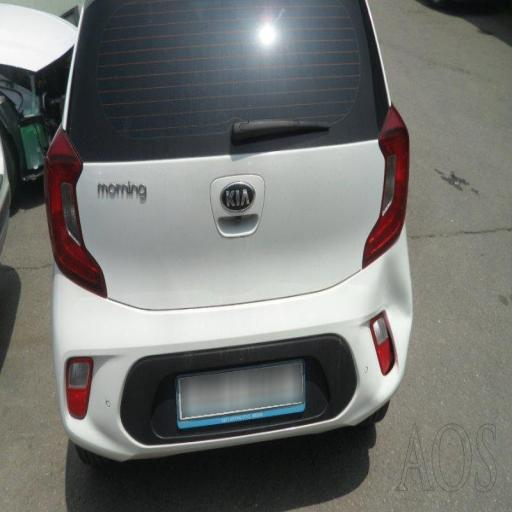dent: (314, 236, 448, 440)
